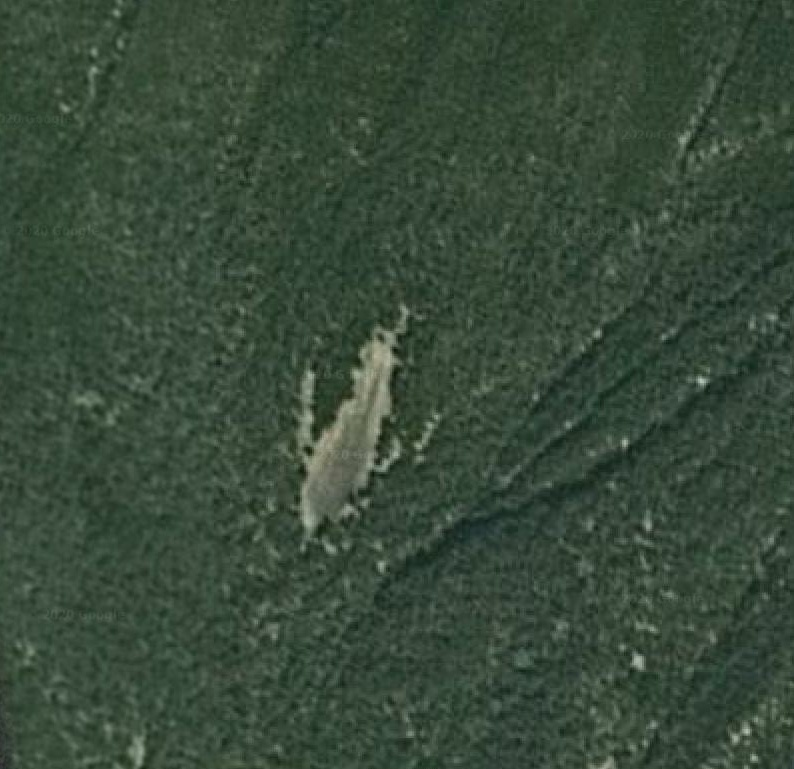slope: (281, 316, 415, 561)
